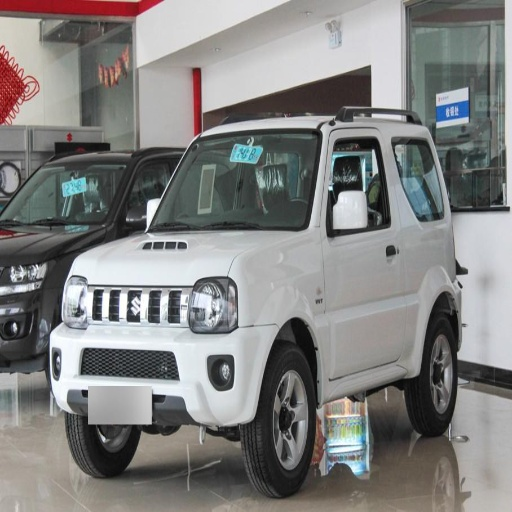front_bumper: (51, 282, 276, 429)
front_glass: (150, 133, 319, 231)
front_left_door: (325, 133, 398, 380)
trunk: (422, 227, 461, 325)
